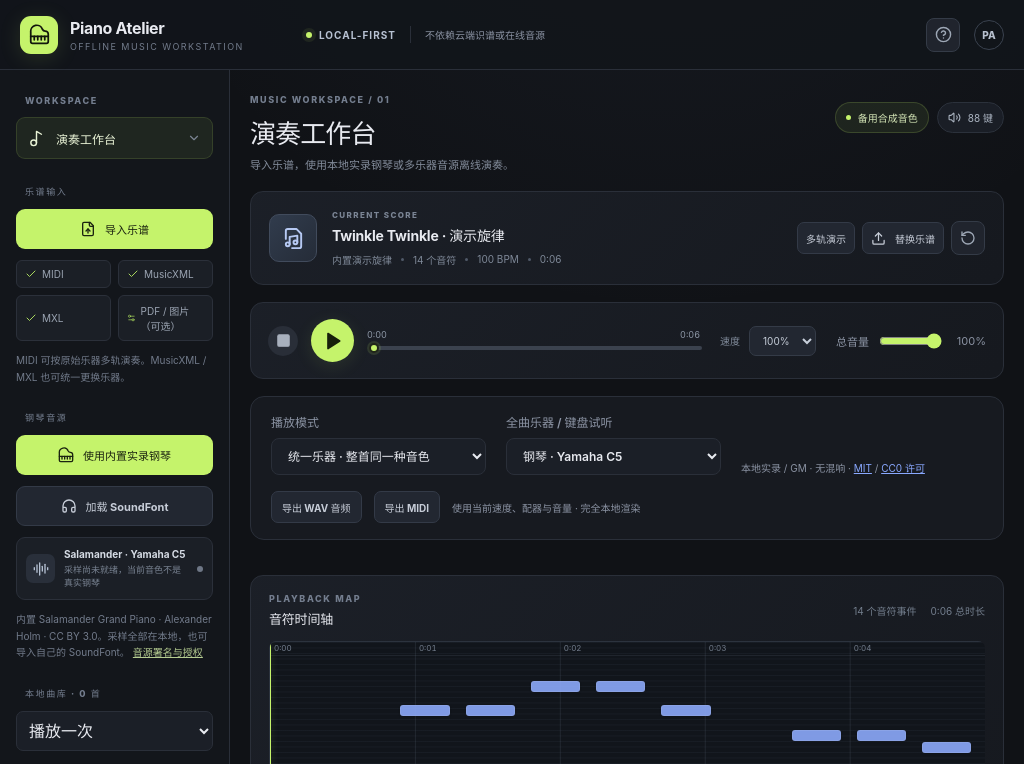
it: does not report recognition success when the native process returns no output
What coordinates should you click on to do the following:
click the button "导入乐谱"
I would click on:
 (114, 229)
Its box is [16,209,213,249].
(page scrolled)
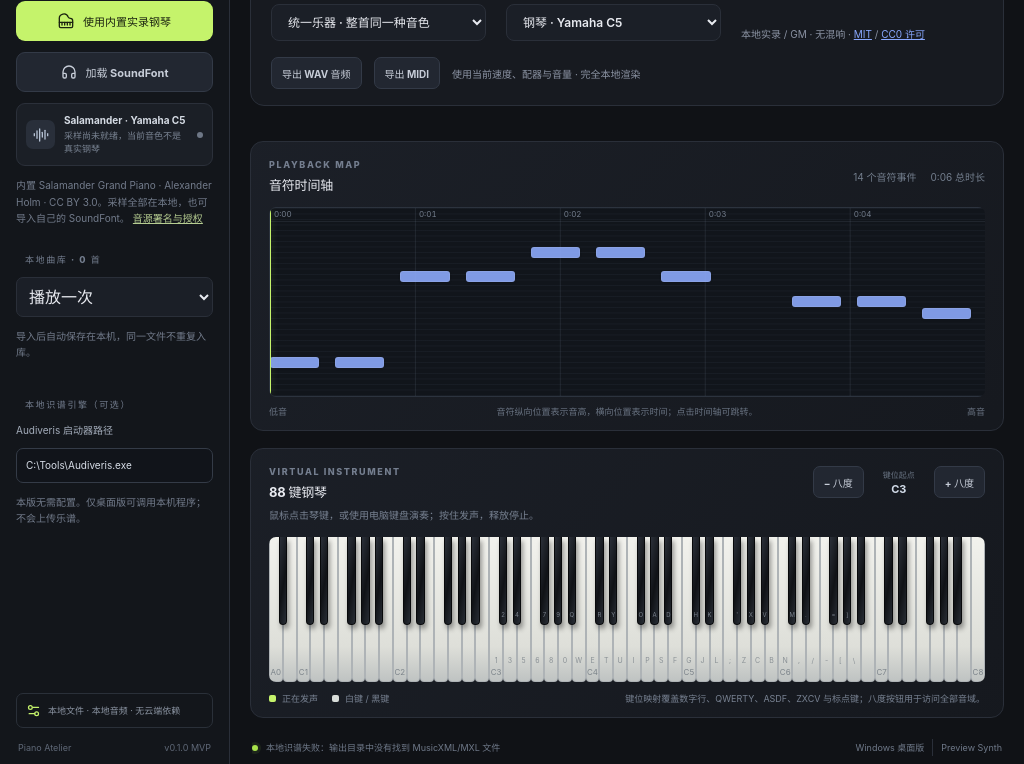
Check: the message "本地识谱失败：输出目录中没有找到 MusicXML/MXL 文件" is shown, box [252,741,500,754]
